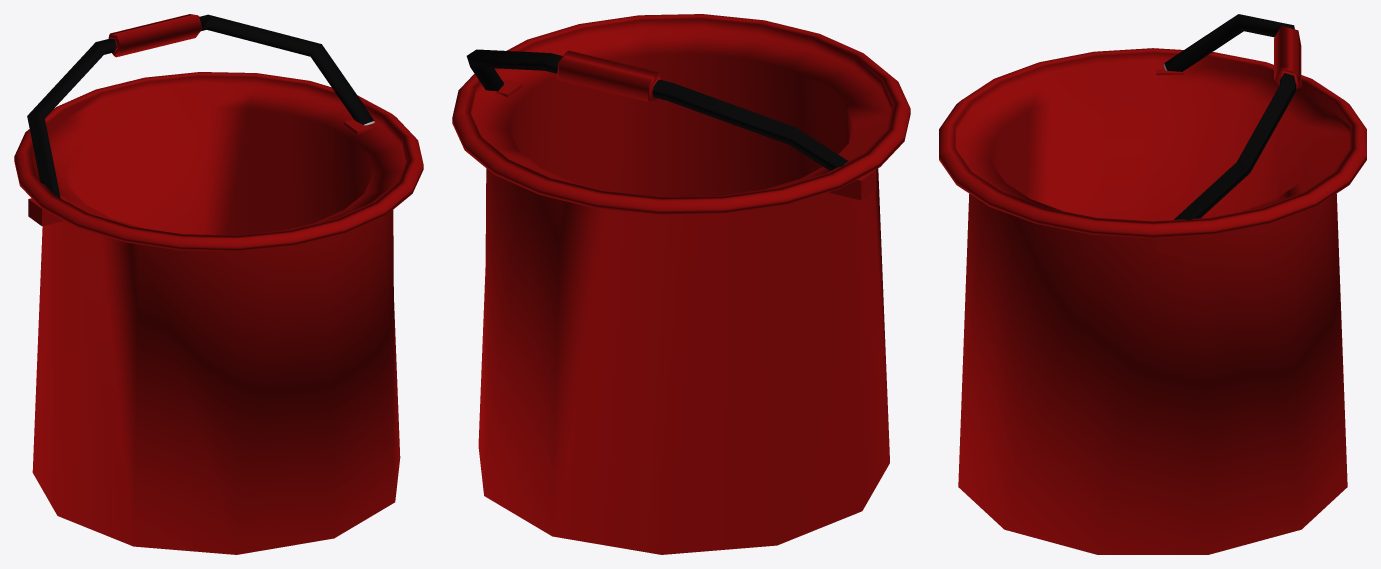
The model's file is Bucket4.fbx.
The picture shows the model from 3 angles, left to right: view 1: azimuth 30°, elevation 25°; view 2: azimuth 150°, elevation 25°; view 3: azimuth 270°, elevation 25°; orthographic projection. The views are drawn at different scales.
Parts seen in each view (by area): view 1: pCube3; view 2: pCube3; view 3: pCube3.
Part boxes in pixels (x1,y1,x2,y2): pCube3: [14, 14, 423, 554]; pCube3: [452, 14, 910, 554]; pCube3: [939, 14, 1366, 554].
Bounding box in the file's own units: 15 × 16.43 × 14.84.
